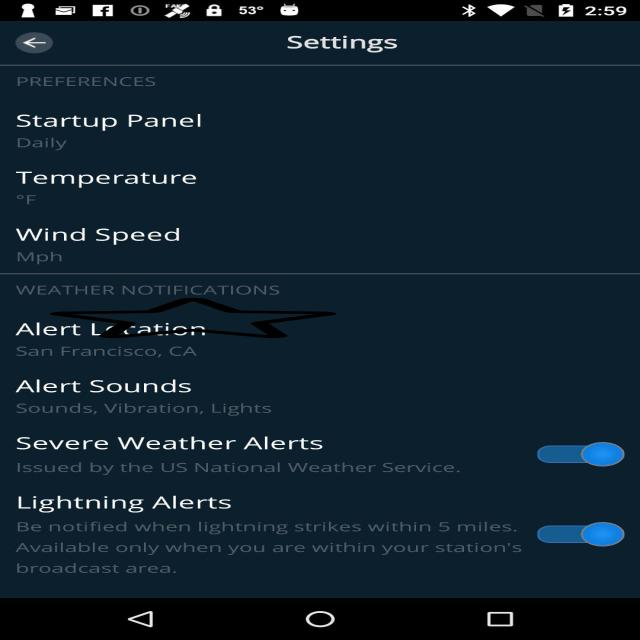forced continuity: (50, 297, 336, 339)
